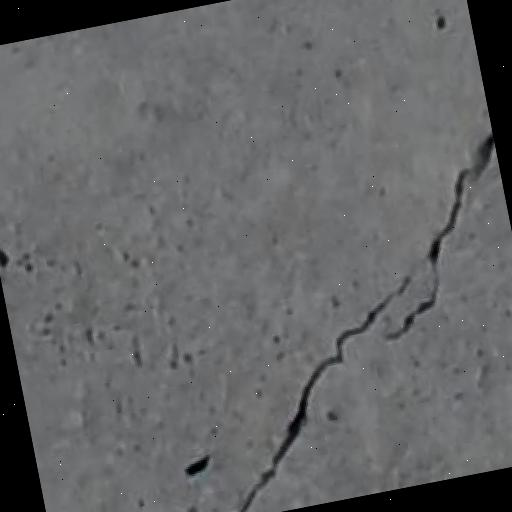spalling: (200, 129, 492, 512)
